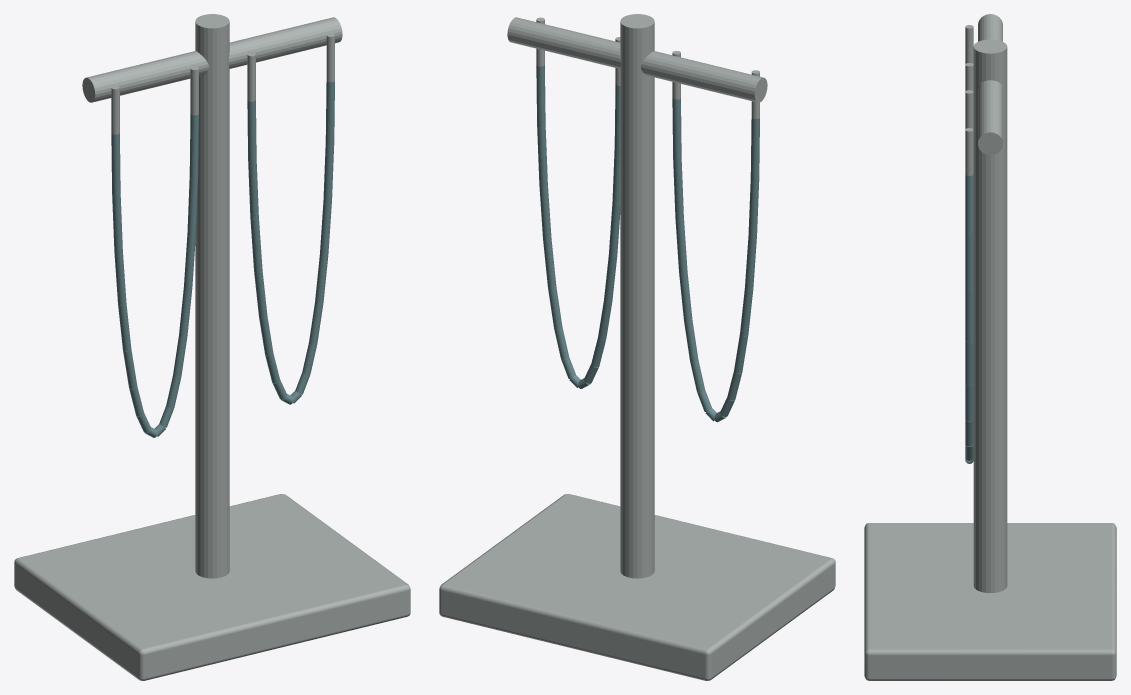
Rendered from optician-and-optical-lens-workshop-optician-and-optica-f2657e17__31710.glb.
3 views of the same model, side by side, from view 1: azimuth 30°, elevation 25°; view 2: azimuth 150°, elevation 25°; view 3: azimuth 270°, elevation 25° (orthographic).
Parts seen in each view (by area): view 1: optician-and-optical-lens-workshop-spectacle-cord-display; view 2: optician-and-optical-lens-workshop-spectacle-cord-display; view 3: optician-and-optical-lens-workshop-spectacle-cord-display.
Boxes of the visible parts, x1,y1,x2,y2 form: optician-and-optical-lens-workshop-spectacle-cord-display: (14,14,410,680); optician-and-optical-lens-workshop-spectacle-cord-display: (439,14,835,680); optician-and-optical-lens-workshop-spectacle-cord-display: (864,14,1116,680).
Size of the model in its own units: 0.22 by 0.45 by 0.18.
